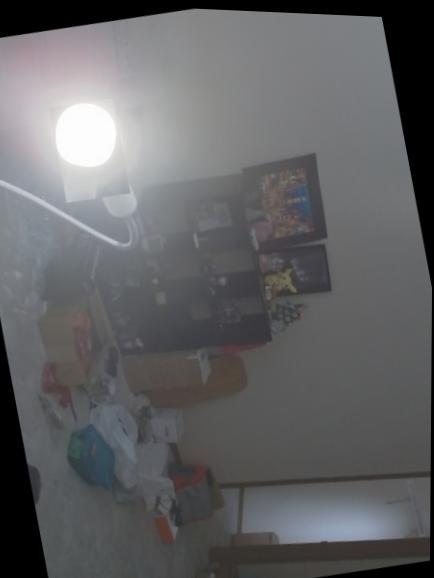TubeLight: (48, 94, 130, 204)
